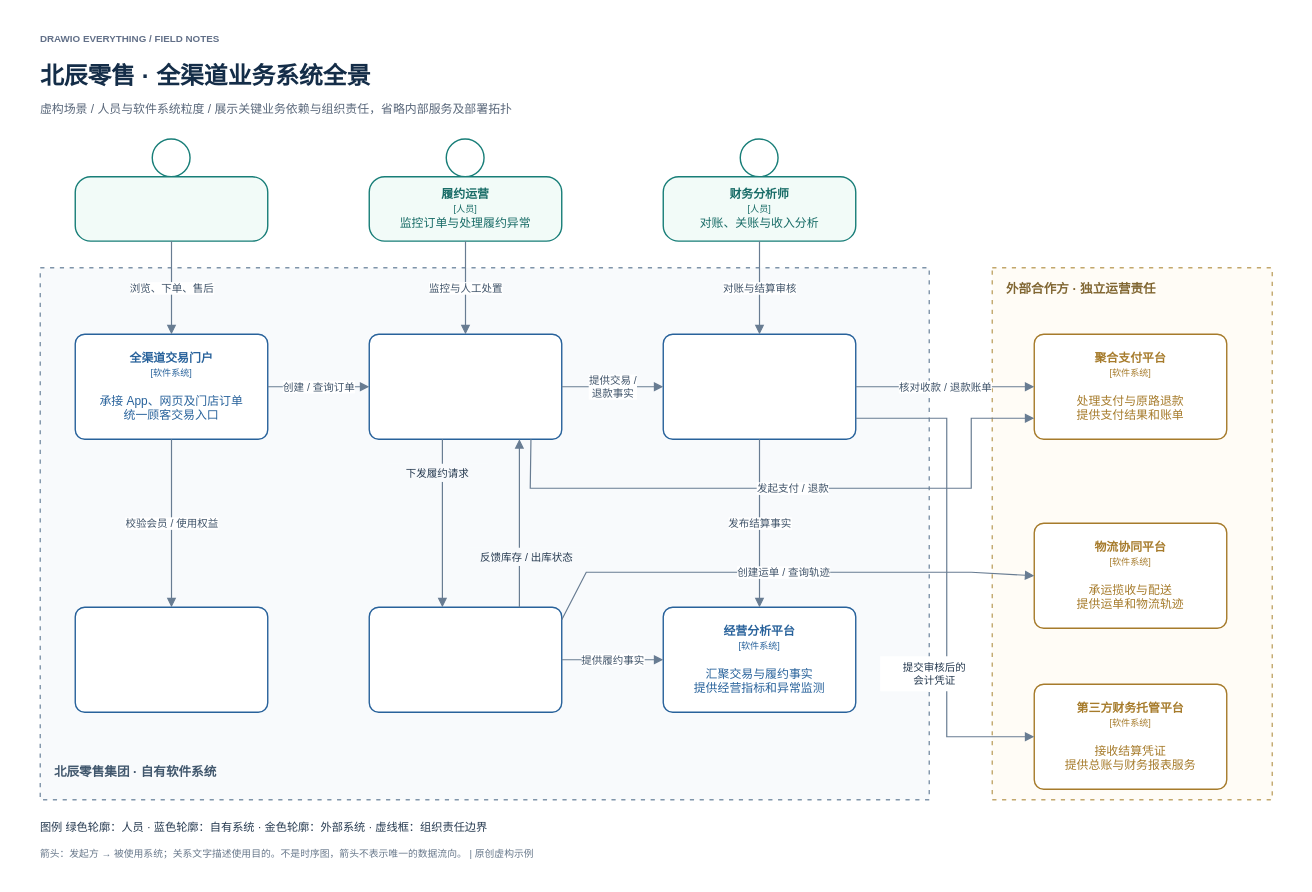
Some shapes in this 1312 by 892 pixel diagram are drawn without their labels. The shapes that lost their labels are listed below. From the top down, each one's centre as x and y in pixels, then its label:
At [171,208]: "会员顾客 [人员] 购买商品、查询订单与积分".
At [465,386]: "订单管理系统 [软件系统] 管理订单生命周期 编排支付与履约请求".
At [759,386]: "财务结算系统 [软件系统] 归集收款与退款 核对订单并生成结算凭证".
At [171,659]: "会员与权益平台 [软件系统] 统一会员身份 管理积分和权益账户".
At [465,659]: "仓储履约系统 [软件系统] 分配库存、拣货出库 跟踪包裹与签收状态".
